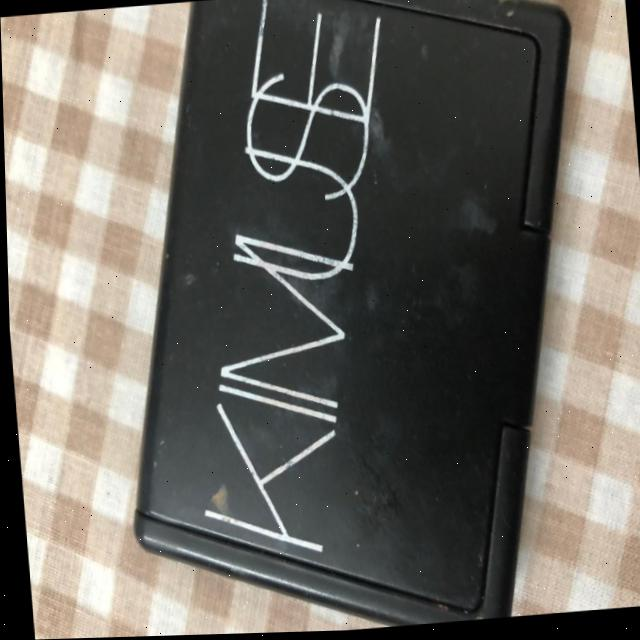makeup: (72, 0, 625, 638)
